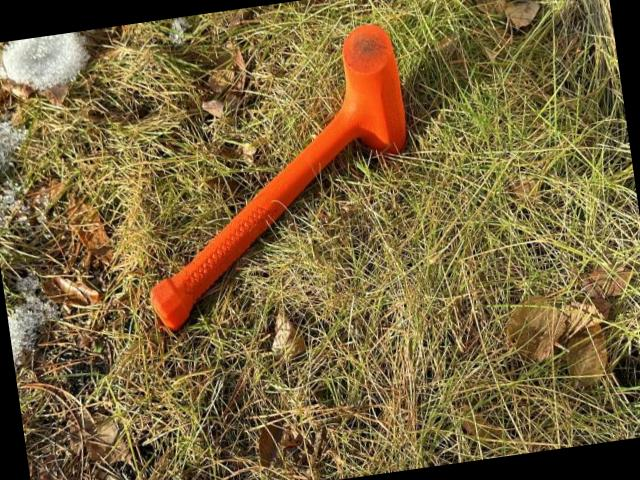hammer: (115, 20, 431, 330)
